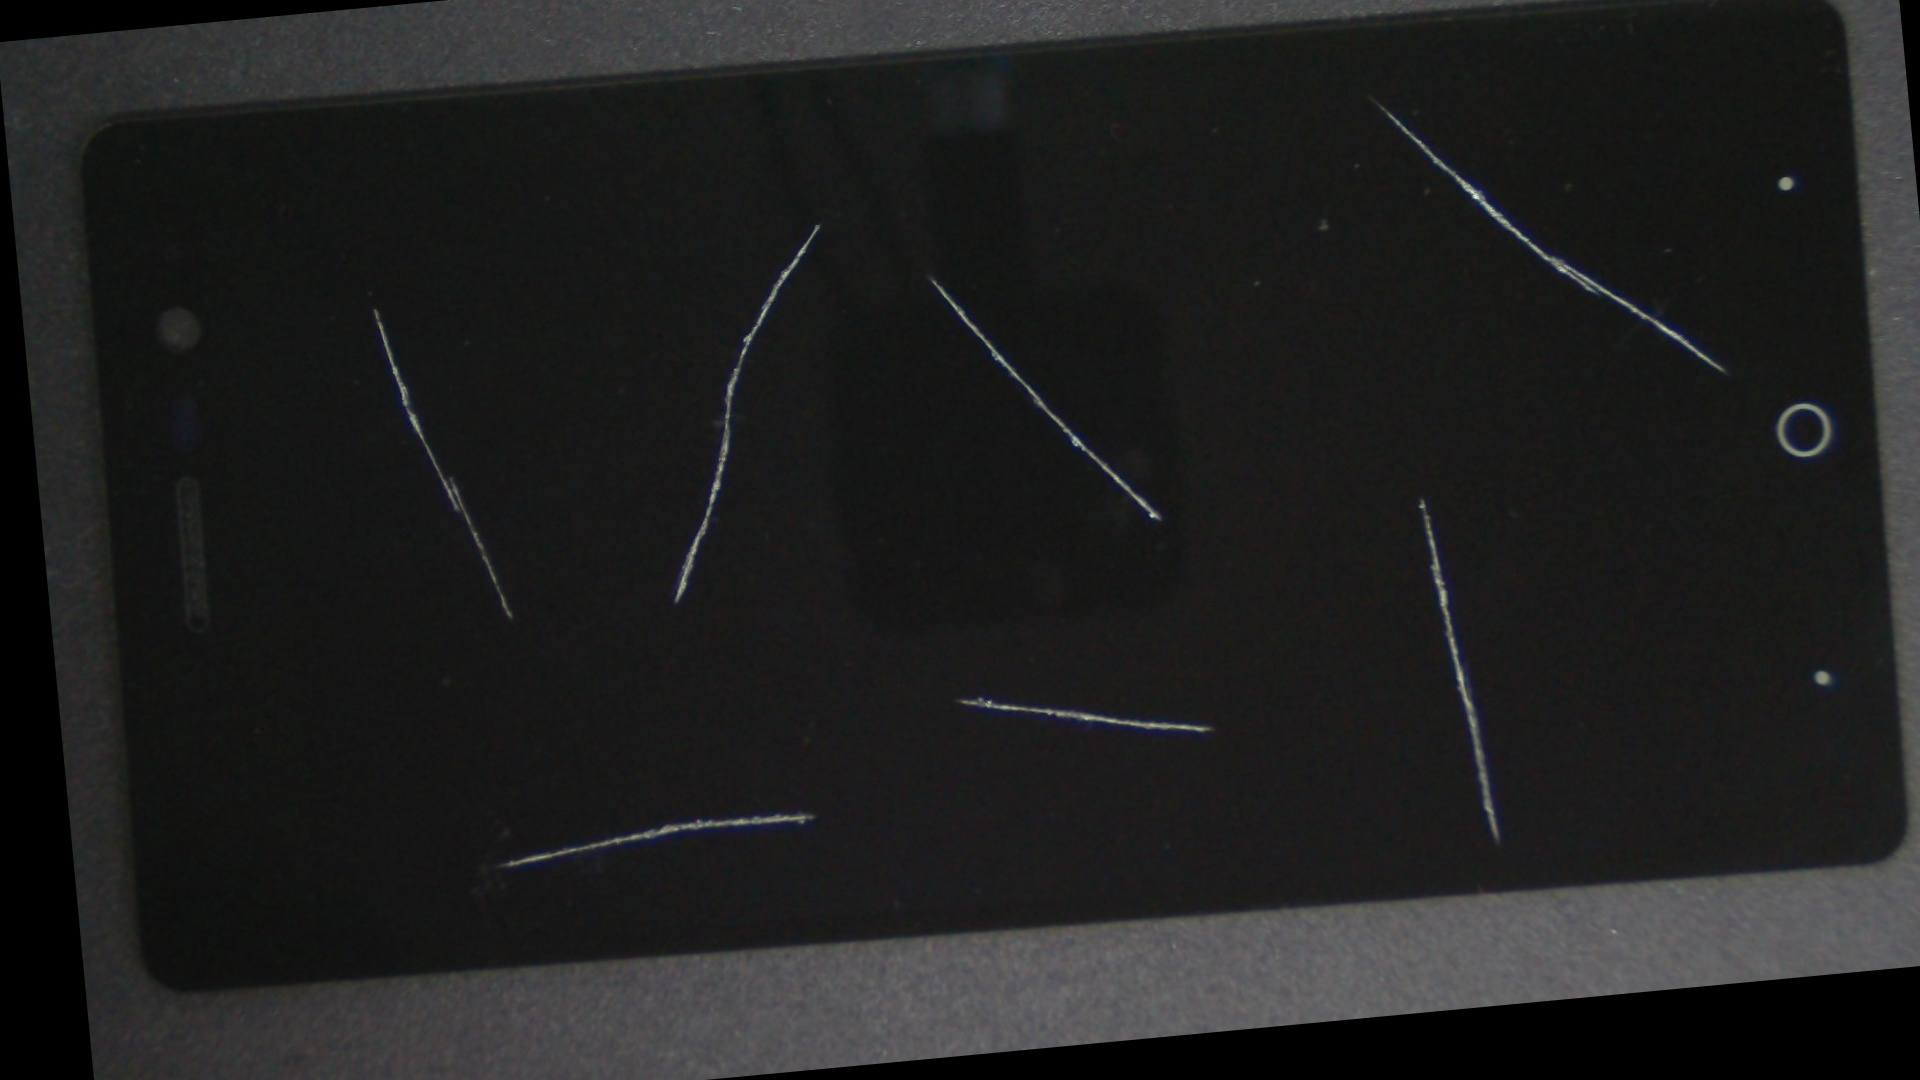oil: (707, 156, 1920, 855), (476, 285, 1432, 1080), (347, 372, 1029, 1080), (463, 75, 1395, 480), (686, 0, 1913, 257), (409, 57, 1232, 389), (186, 141, 562, 473)
